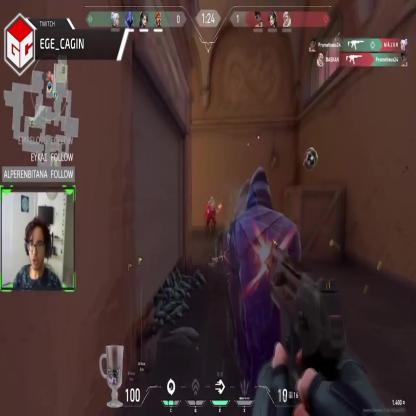enemy: (206, 198, 217, 236)
enemy_head: (210, 197, 214, 203)
